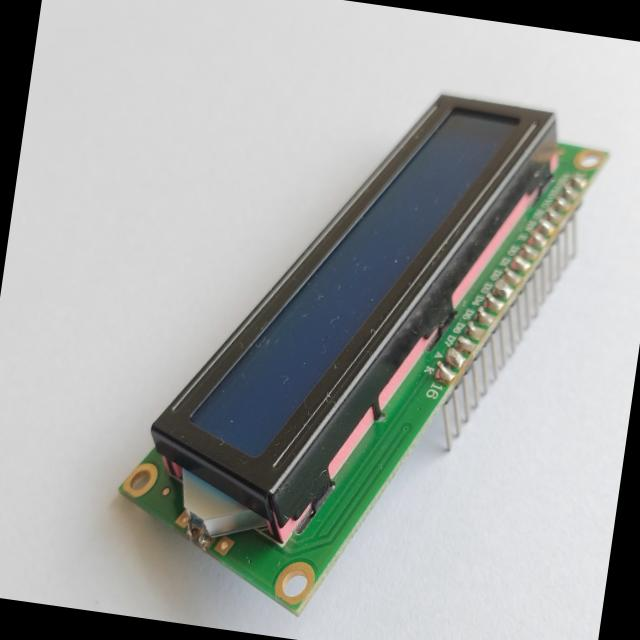lcd: (136, 56, 565, 576)
